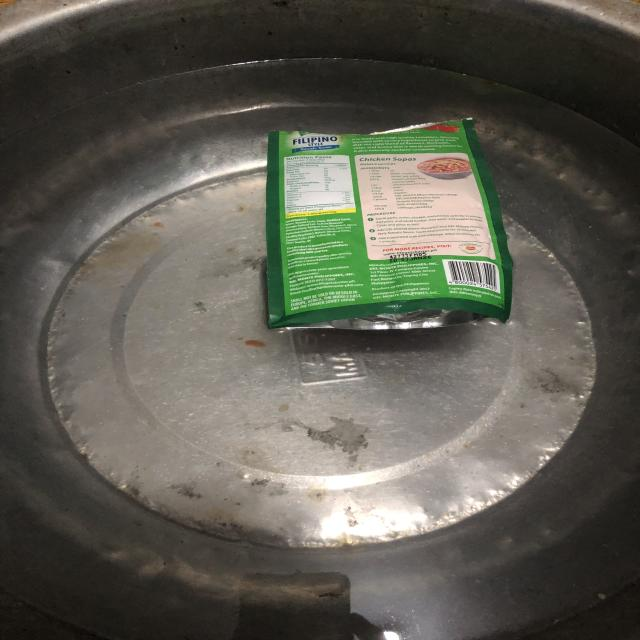Plastic Pouch: (195, 98, 548, 360)
